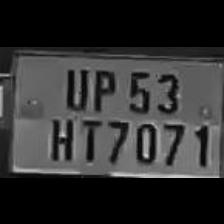0: (131, 117, 158, 163)
1: (187, 118, 213, 166)
3: (152, 66, 181, 112)
5: (122, 64, 152, 114)
7: (102, 114, 128, 164), (158, 118, 184, 164)
H: (45, 112, 75, 160)
P: (88, 64, 118, 110)
T: (76, 114, 102, 162)
U: (59, 62, 89, 110)
